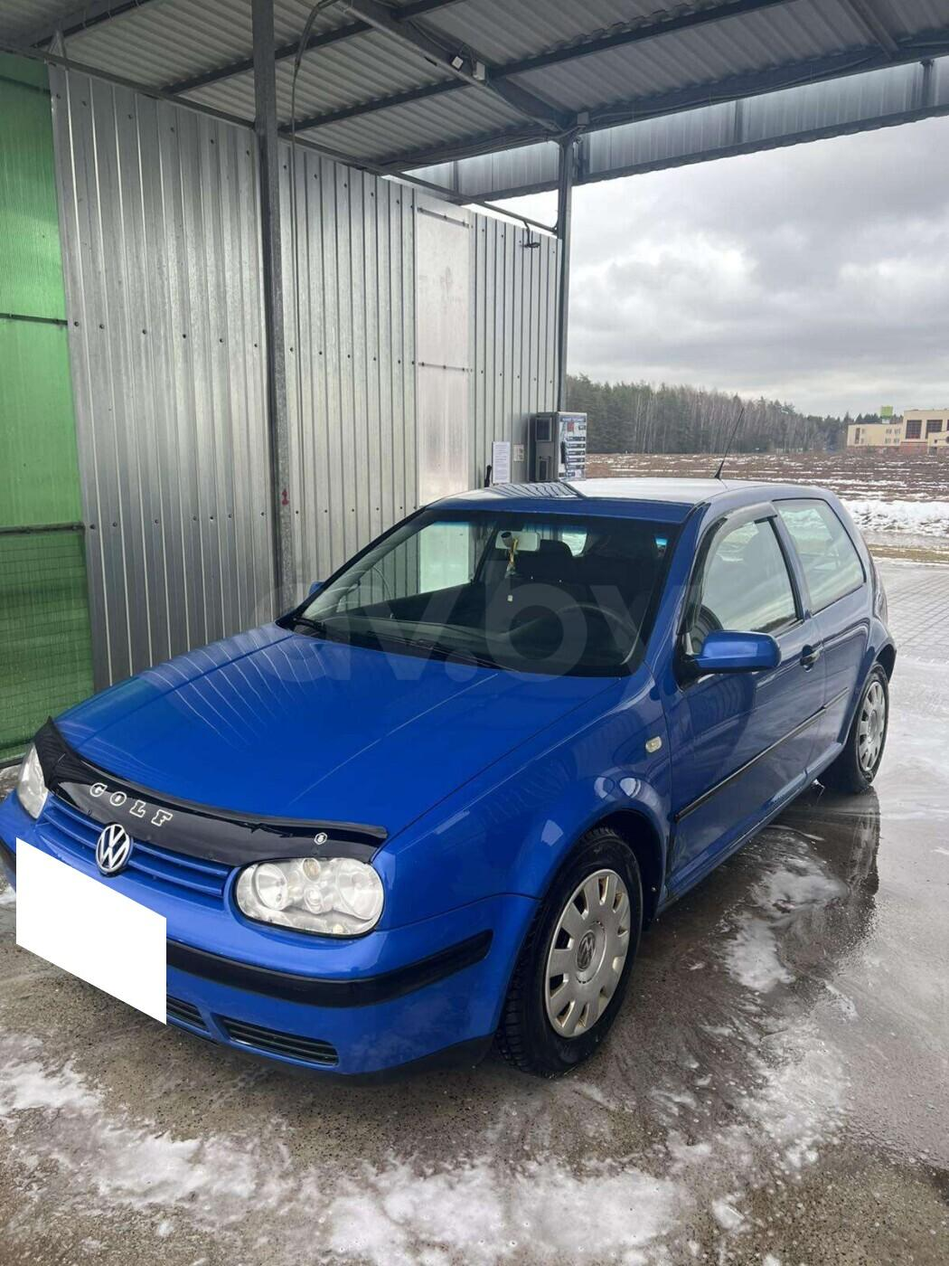Golf_1997-2006: (0, 473, 907, 1062)
